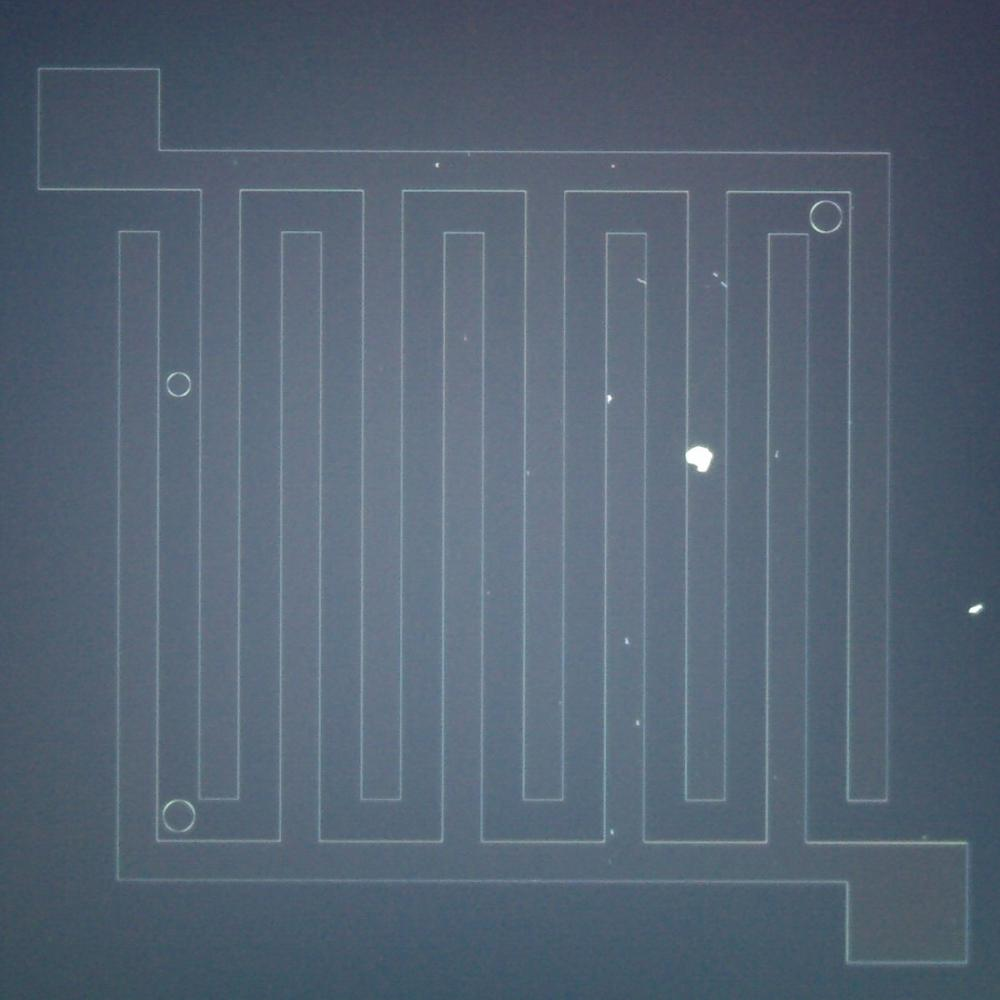Bdot: (688, 446, 714, 472)
dot: (970, 605, 979, 614), (608, 828, 616, 836), (434, 162, 440, 168), (712, 272, 718, 278), (606, 395, 612, 401), (635, 720, 641, 726), (624, 640, 629, 644), (611, 164, 615, 168), (774, 454, 778, 458), (526, 472, 530, 476)
